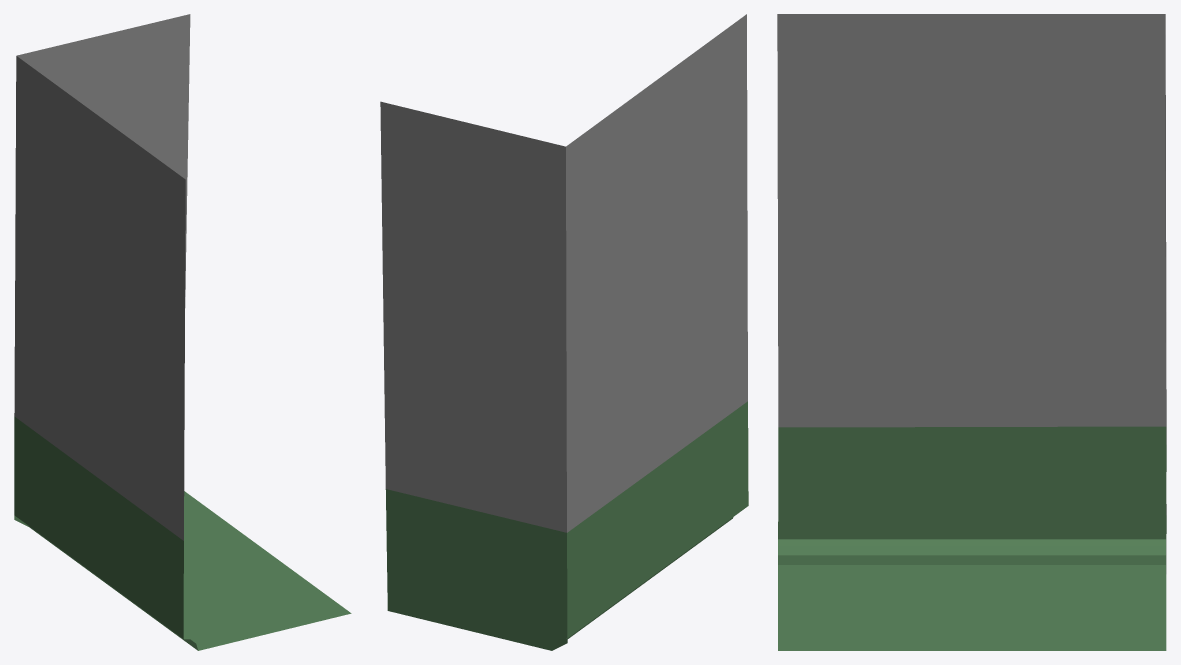
Rendered from mapa 14.fbx.
3 renders of one model, left to right at view 1: azimuth 30°, elevation 25°; view 2: azimuth 150°, elevation 25°; view 3: azimuth 270°, elevation 25°, orthographic. The views are drawn at different scales.
Visible parts, largest first — view 1: pPlane16; view 2: pPlane16; view 3: pPlane16.
Part boxes in pixels (x1,y1,x2,y2): pPlane16: (14,14,351,650); pPlane16: (380,14,748,650); pPlane16: (777,14,1166,650).
Size of the model in its own units: 3.27 by 8.45 by 5.48.
